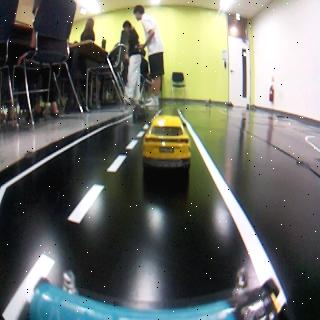car: (142, 114, 192, 168), (133, 102, 150, 120)
